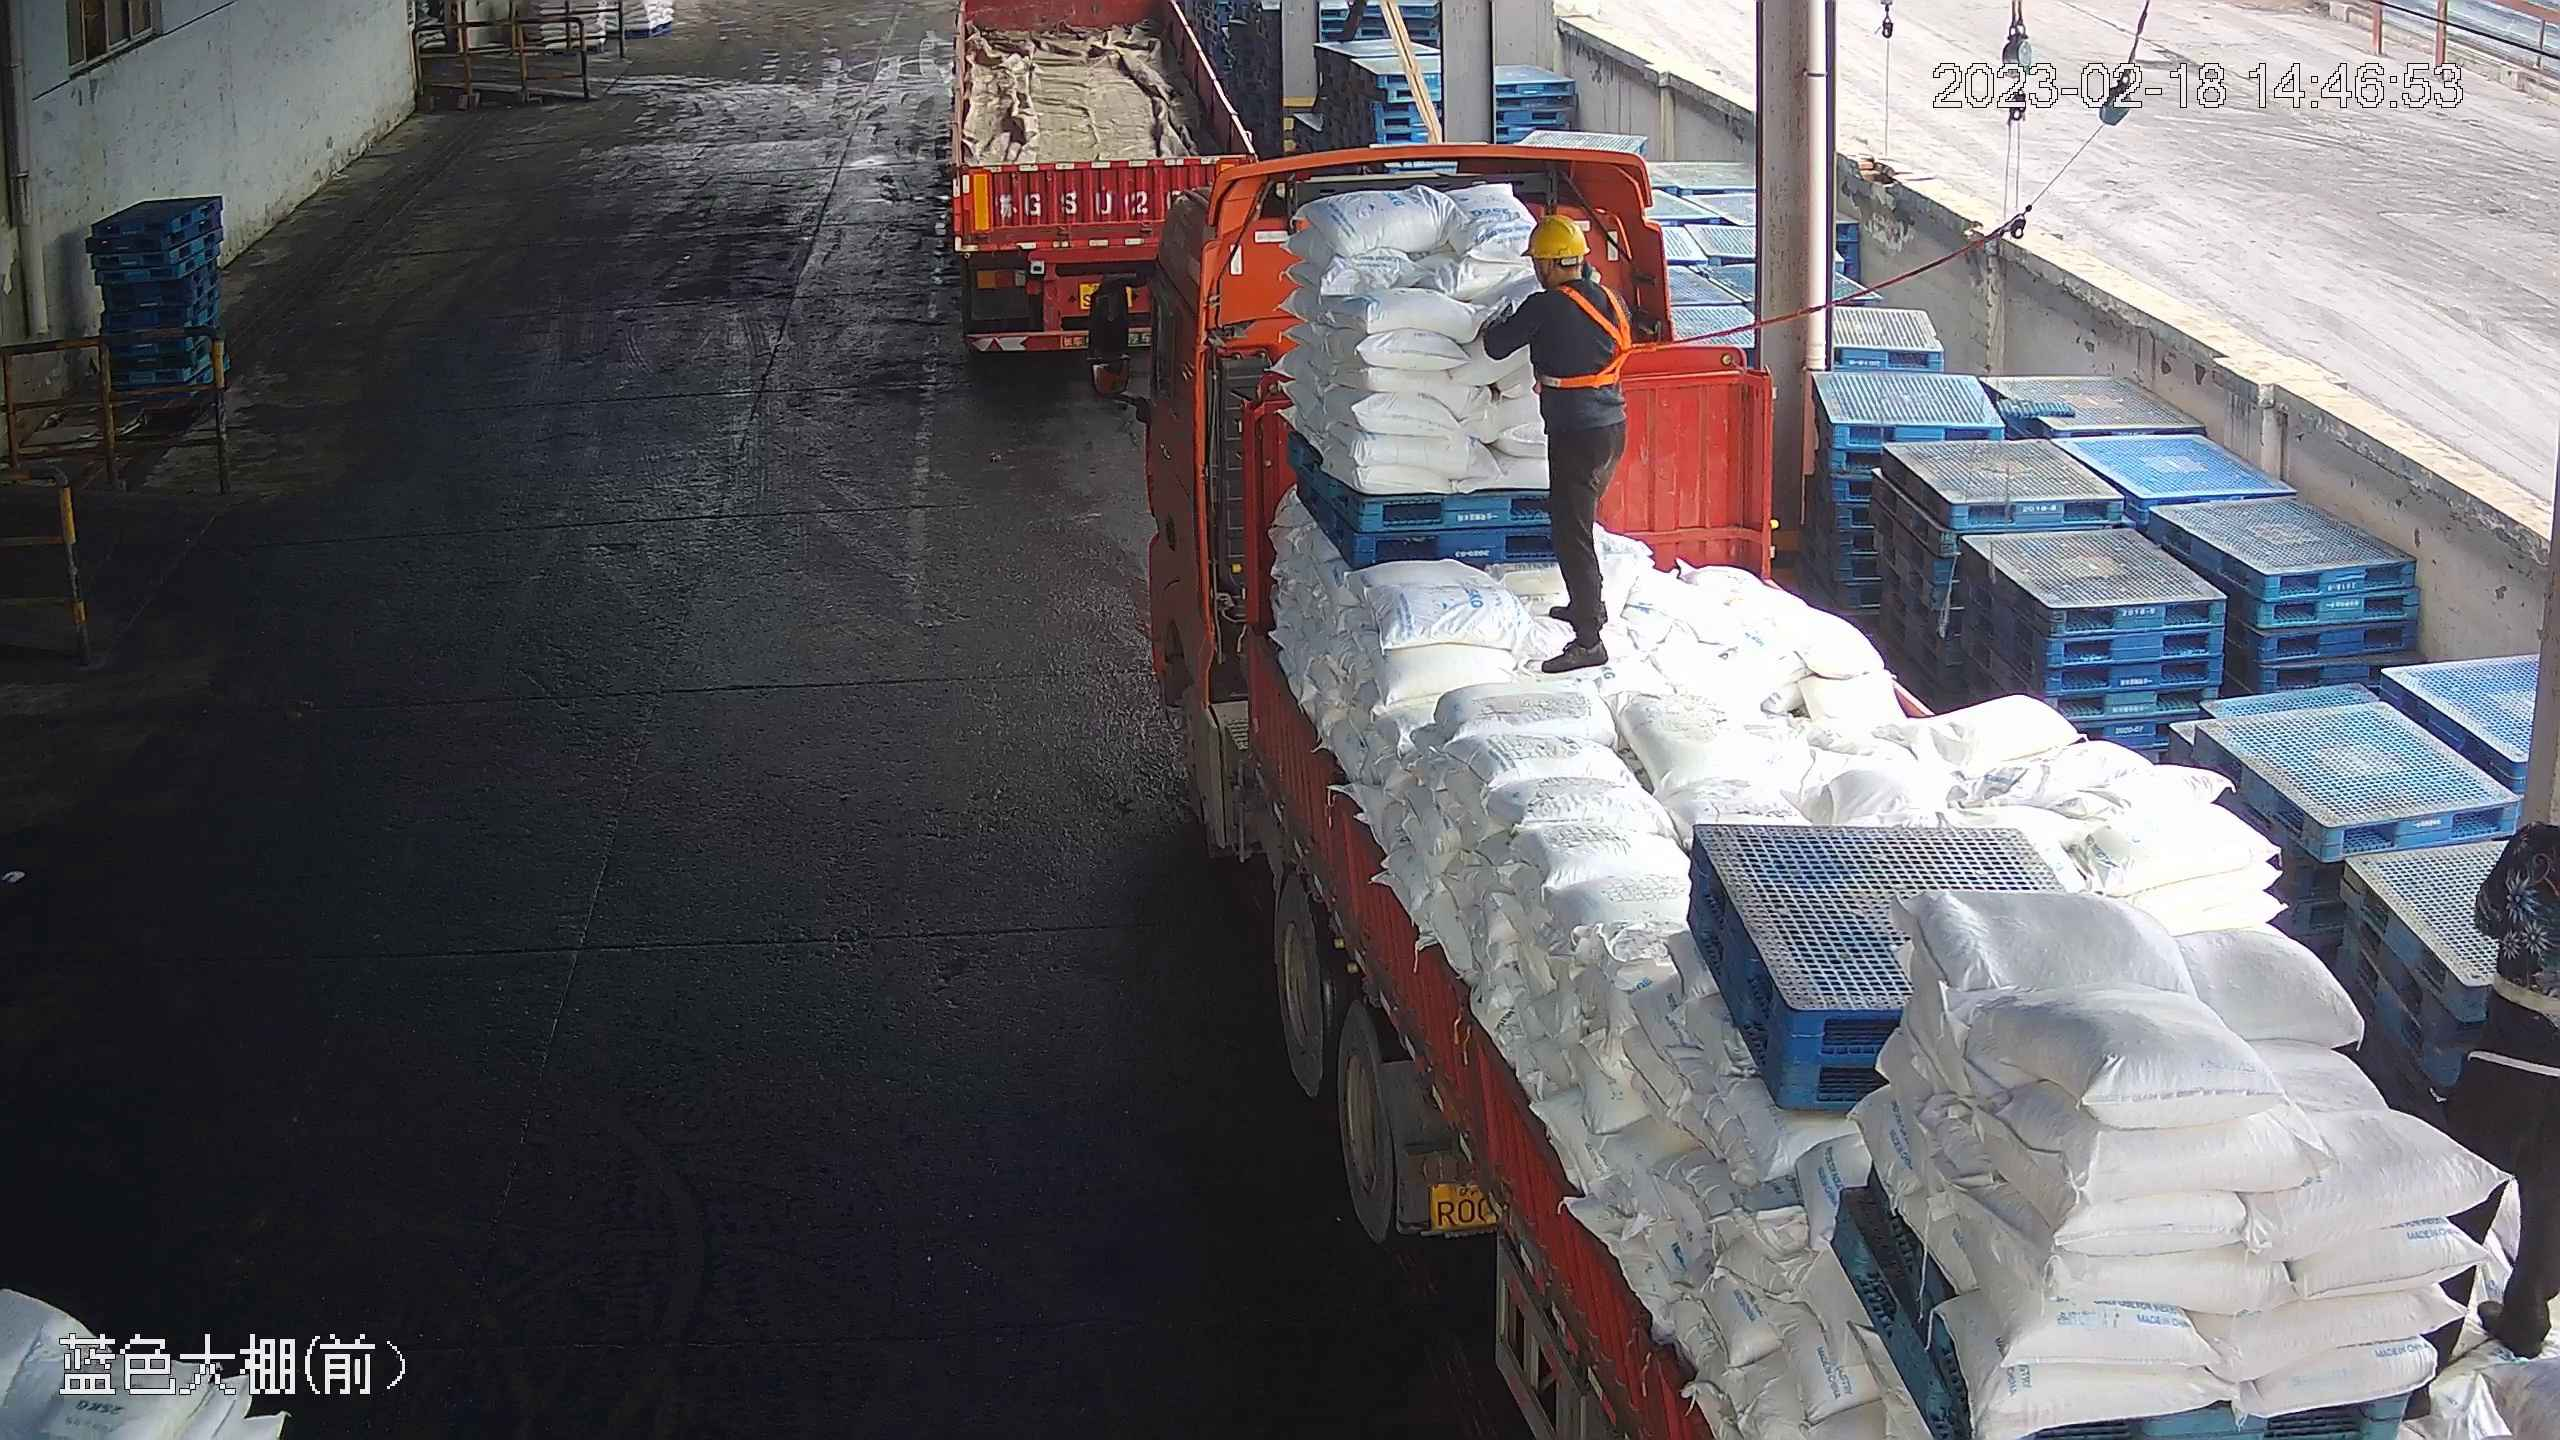belt: (1538, 280, 1649, 392)
head: (1498, 208, 1632, 336)
helmet: (1521, 208, 1592, 261)
people: (2394, 816, 2560, 1425), (1475, 209, 1640, 671)
truck: (1085, 144, 2557, 1439), (945, 1, 1263, 354)
